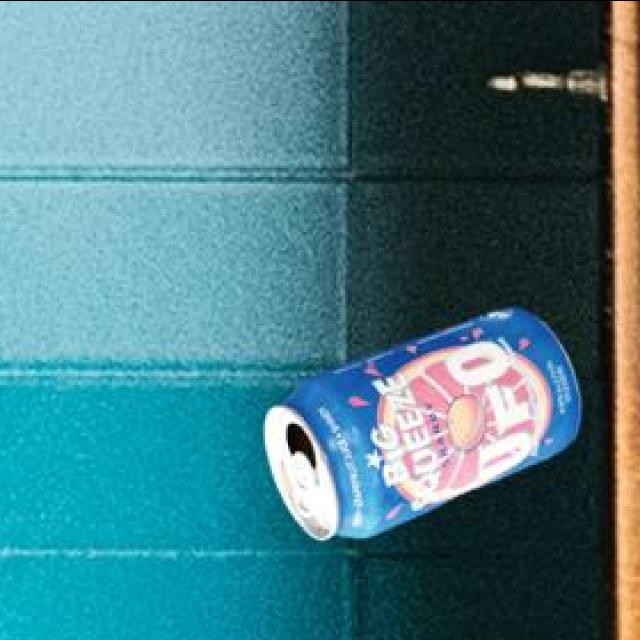logam: (269, 303, 584, 536)
